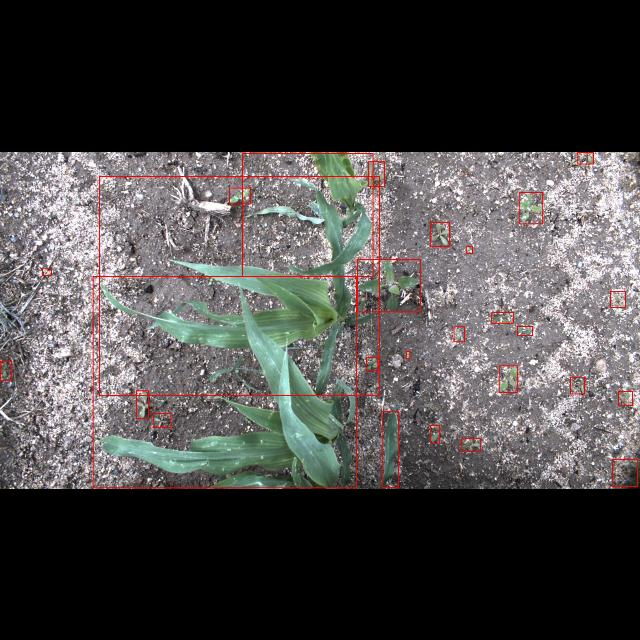crop: (99, 176, 379, 394), (93, 276, 357, 488), (242, 152, 374, 276), (382, 411, 398, 487)
weed: (358, 259, 420, 311), (519, 192, 543, 222), (612, 459, 638, 486), (498, 366, 518, 392), (430, 221, 450, 245), (368, 160, 384, 186), (136, 390, 148, 418), (230, 187, 250, 203), (462, 438, 481, 452), (610, 291, 626, 307), (571, 376, 585, 394), (153, 413, 171, 427), (0, 360, 12, 380), (492, 312, 512, 322), (618, 391, 632, 405), (578, 151, 594, 163), (430, 425, 440, 443), (454, 326, 464, 342), (367, 356, 378, 370), (518, 326, 532, 334), (42, 268, 52, 274), (467, 245, 473, 252), (406, 350, 410, 358)
